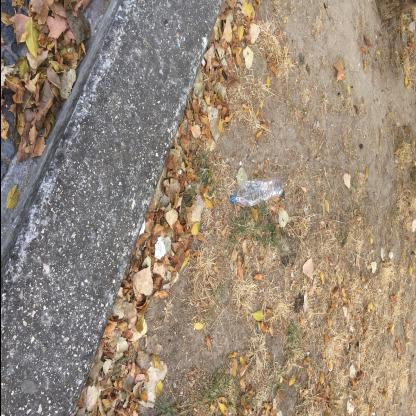plastik: (230, 177, 284, 209)
